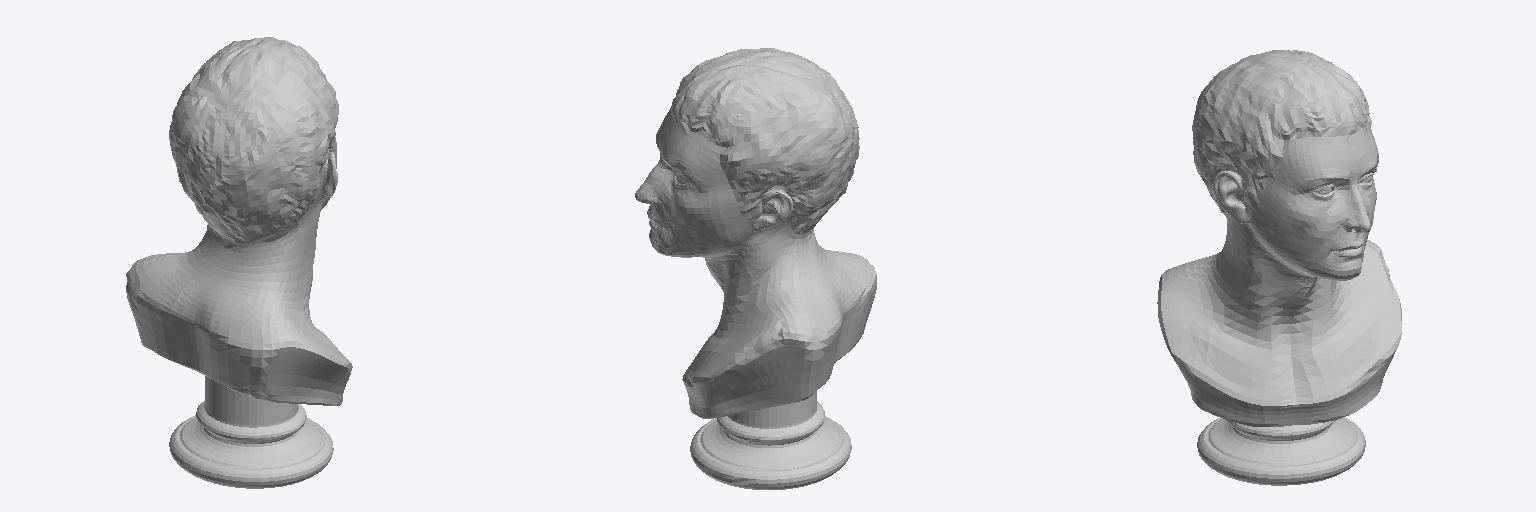
Rendered from marble-bust.obj.
3 views of the same model, side by side, from view 1: azimuth 30°, elevation 25°; view 2: azimuth 150°, elevation 25°; view 3: azimuth 270°, elevation 25° (orthographic).
Parts seen in each view (by area): view 1: marble_bust_01; view 2: marble_bust_01; view 3: marble_bust_01.
Boxes of the visible parts, box(x1,y1,x2,y2) form: marble_bust_01: box(126, 37, 352, 488); marble_bust_01: box(635, 48, 876, 489); marble_bust_01: box(1157, 50, 1401, 485).
Bounding box in the file's own units: 0.1959 × 0.4184 × 0.2308.